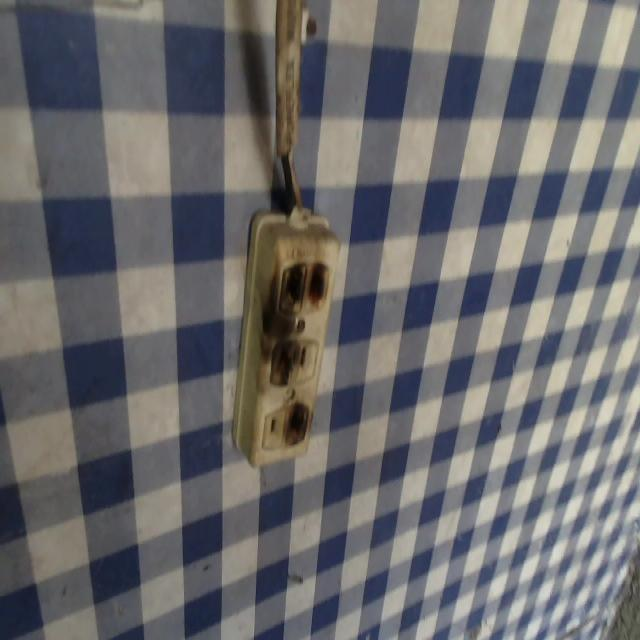-: (275, 256, 329, 312), (269, 335, 298, 384), (285, 403, 310, 445)
